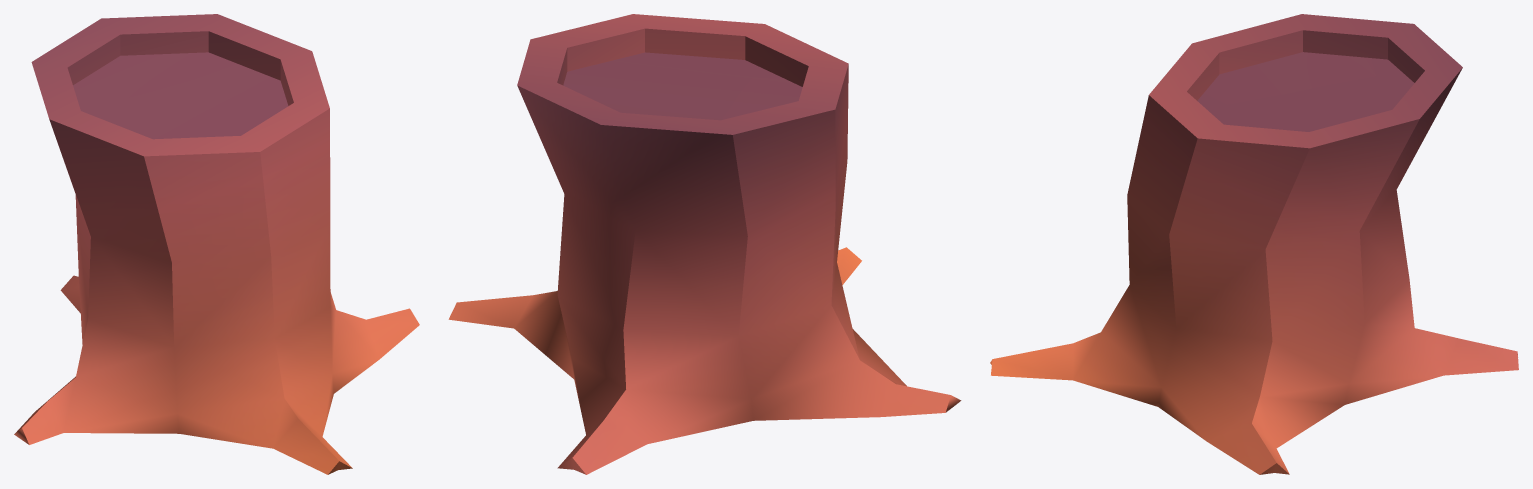
The model's file is Stump.fbx.
3 renders of one model, left to right at view 1: azimuth 30°, elevation 25°; view 2: azimuth 150°, elevation 25°; view 3: azimuth 270°, elevation 25°, orthographic. The views are drawn at different scales.
Parts seen in each view (by area): view 1: Broken_tree_2; view 2: Broken_tree_2; view 3: Broken_tree_2.
Boxes of the visible parts, <box> form: Broken_tree_2: <box>14,14,419,474</box>; Broken_tree_2: <box>448,14,961,474</box>; Broken_tree_2: <box>990,14,1518,474</box>.
Size of the model in its own units: 94.23 by 62.22 by 100.
